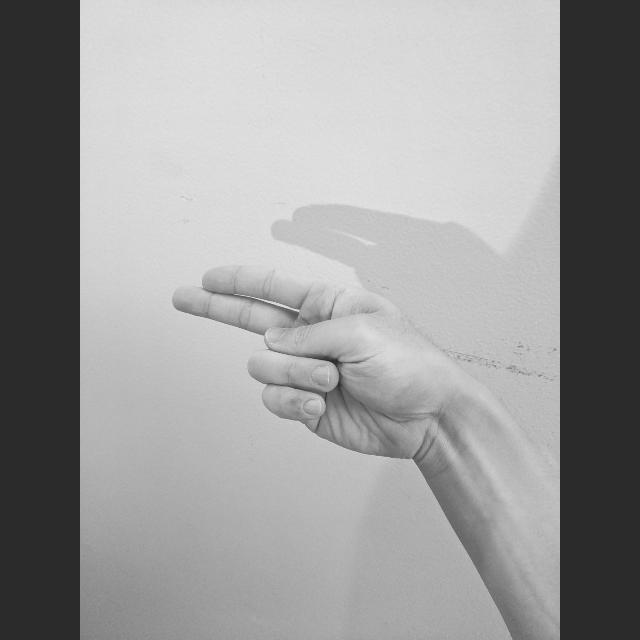H: (165, 258, 449, 464)
